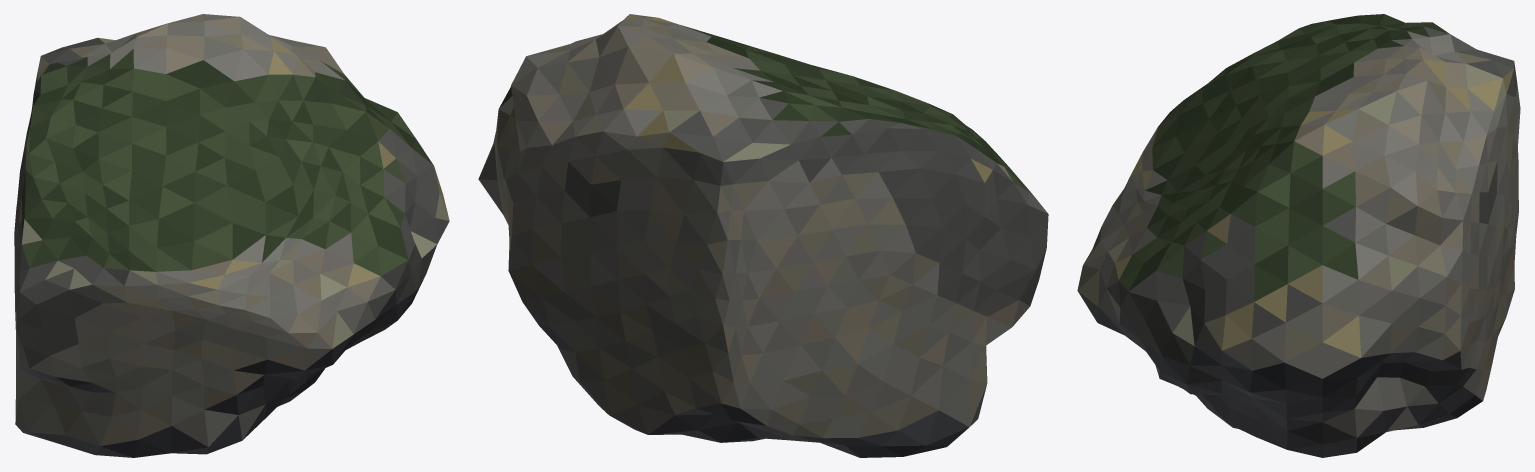
Rendered from rock.glb.
3 renders of one model, left to right at view 1: azimuth 30°, elevation 25°; view 2: azimuth 150°, elevation 25°; view 3: azimuth 270°, elevation 25°, orthographic. The views are drawn at different scales.
Parts seen in each view (by area): view 1: rock; view 2: rock; view 3: rock.
Part boxes in pixels (x1,y1,x2,y2): rock: (14, 14, 449, 457); rock: (478, 14, 1048, 457); rock: (1077, 14, 1520, 457).
Size of the model in its own units: 1.12 by 0.8203 by 0.8892.
